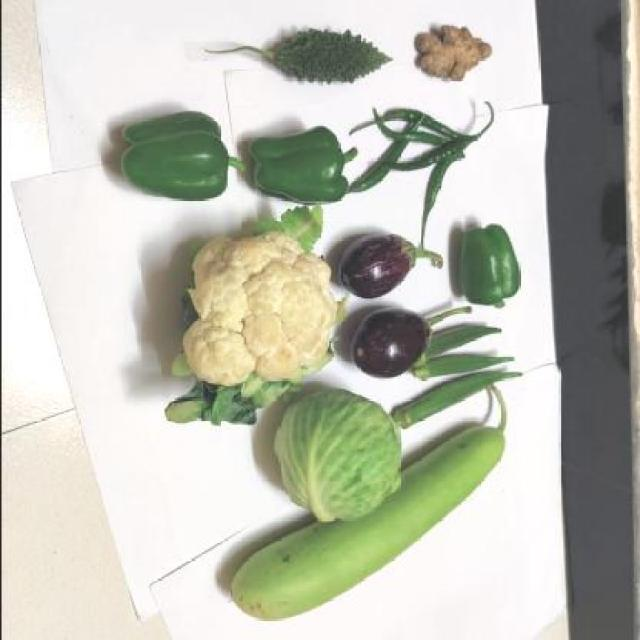Bitter melon: (235, 16, 398, 92)
Brinjal: (340, 223, 442, 300), (346, 303, 442, 383)
Cabbage: (274, 394, 400, 526)
Calabash: (233, 508, 512, 624)
Capsicum: (111, 103, 251, 209), (249, 120, 360, 214), (444, 209, 522, 311)
Cauliflower: (158, 218, 340, 424)
Ginger: (412, 16, 494, 92)
Green Chili: (361, 95, 497, 217)
Lady finger: (397, 349, 526, 429)
